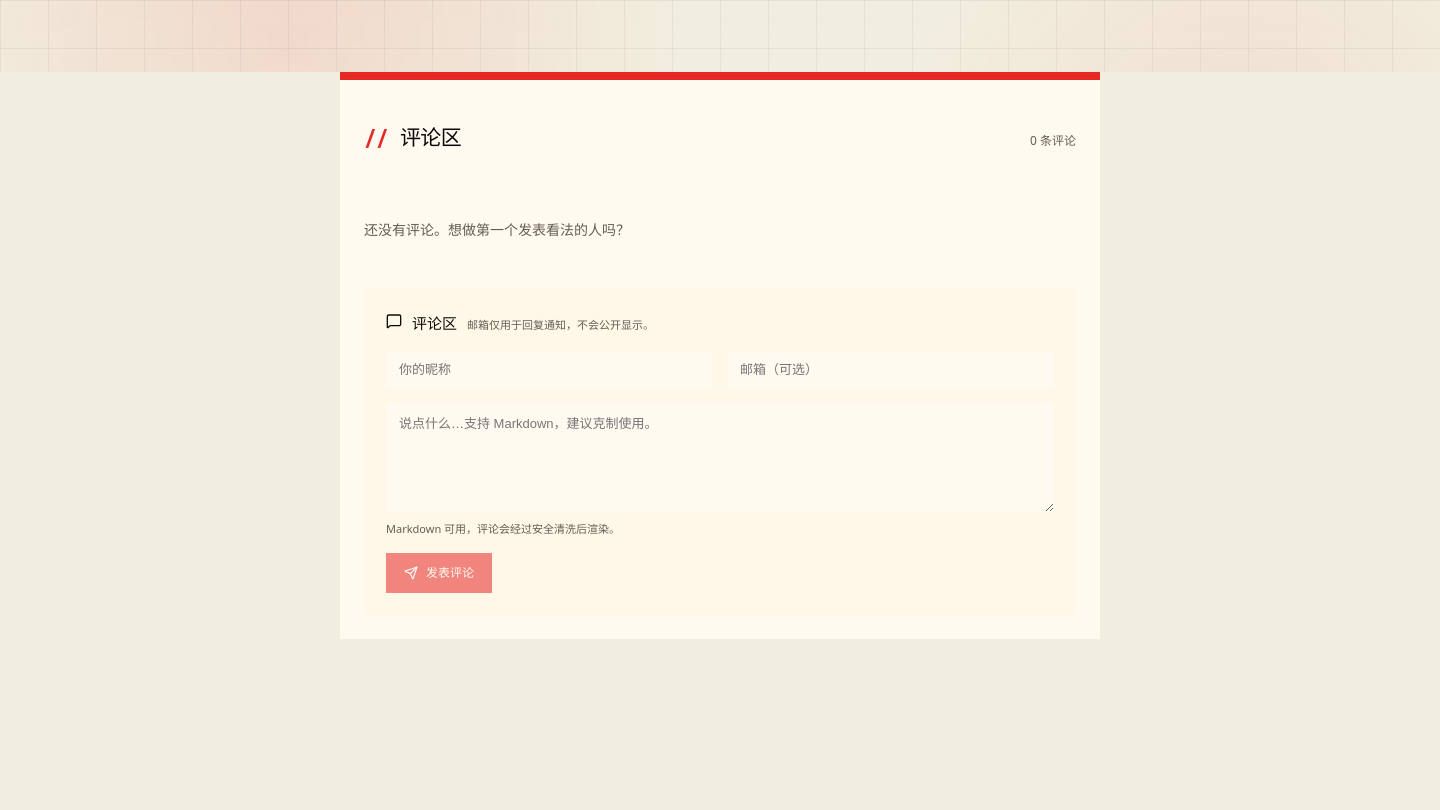
Test case: PostComments 评论区 › 提交失败时展示错误提示且不刷新列表
Type "bob" into the field with placeholder "你的昵称" at (550, 370), box [386,351,713,388]
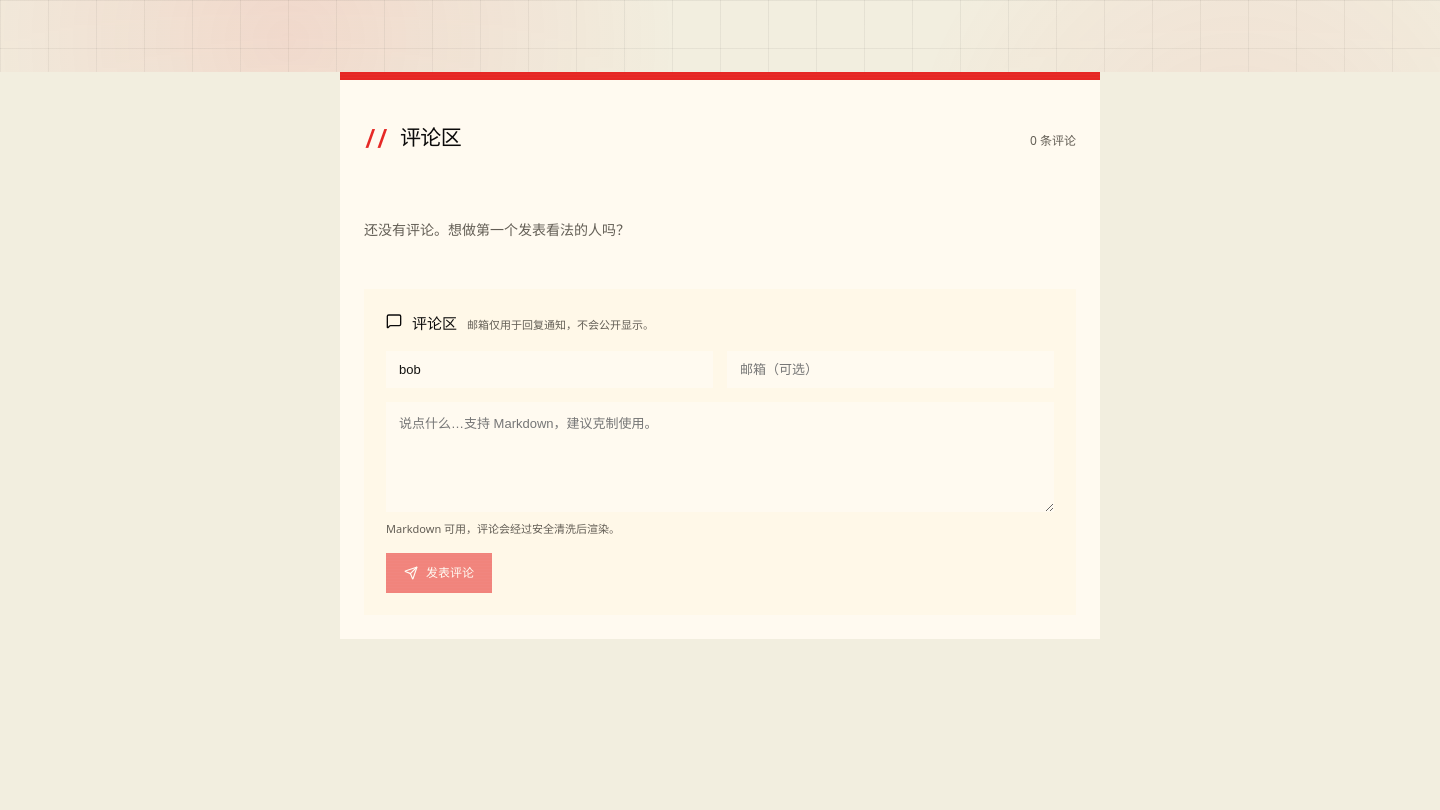
Type "oops" into the text box with placeholder "说点什么…支持 Markdown，建议克制使用。" at (720, 457), box [386,402,1054,512]
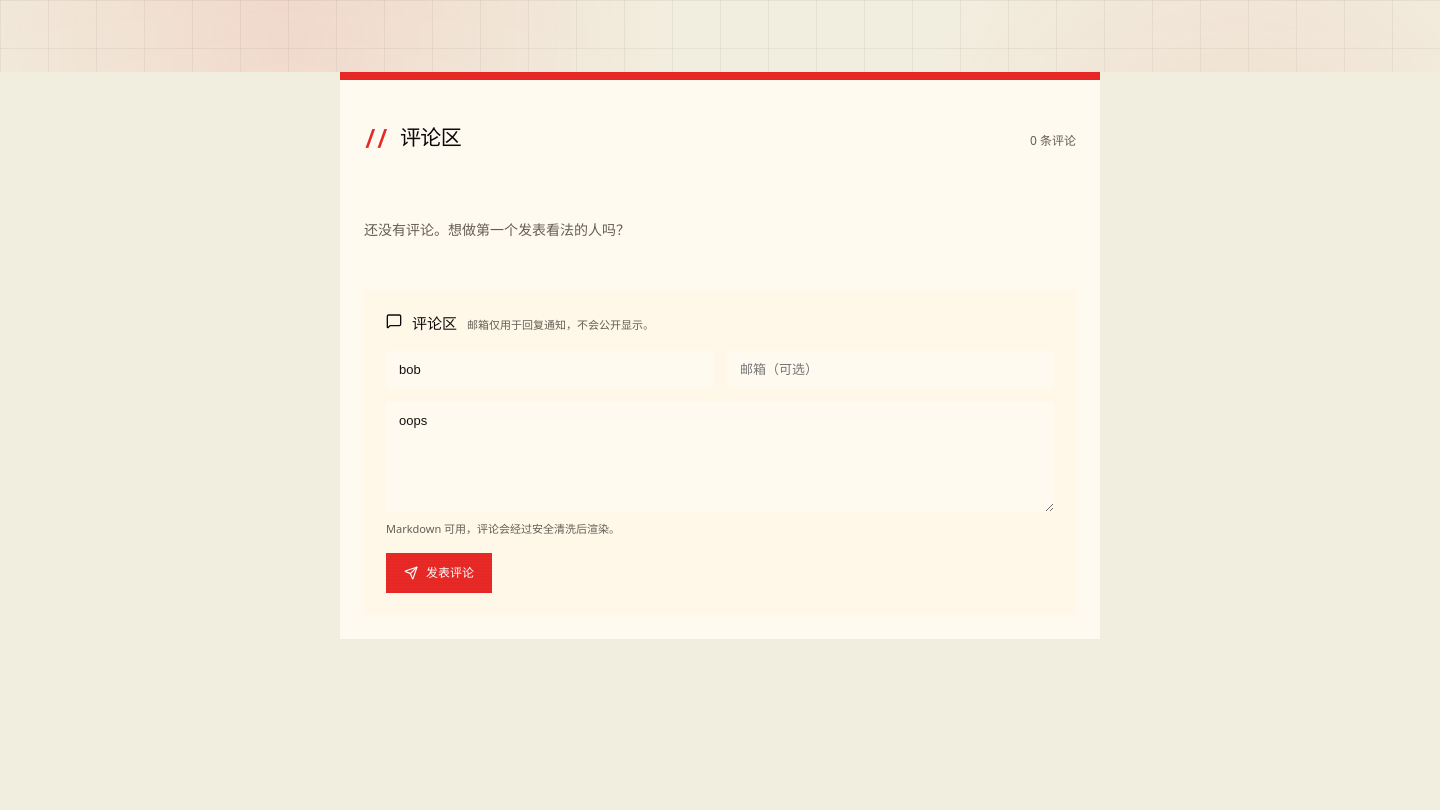
Submit the form, box [364,290,1076,615]
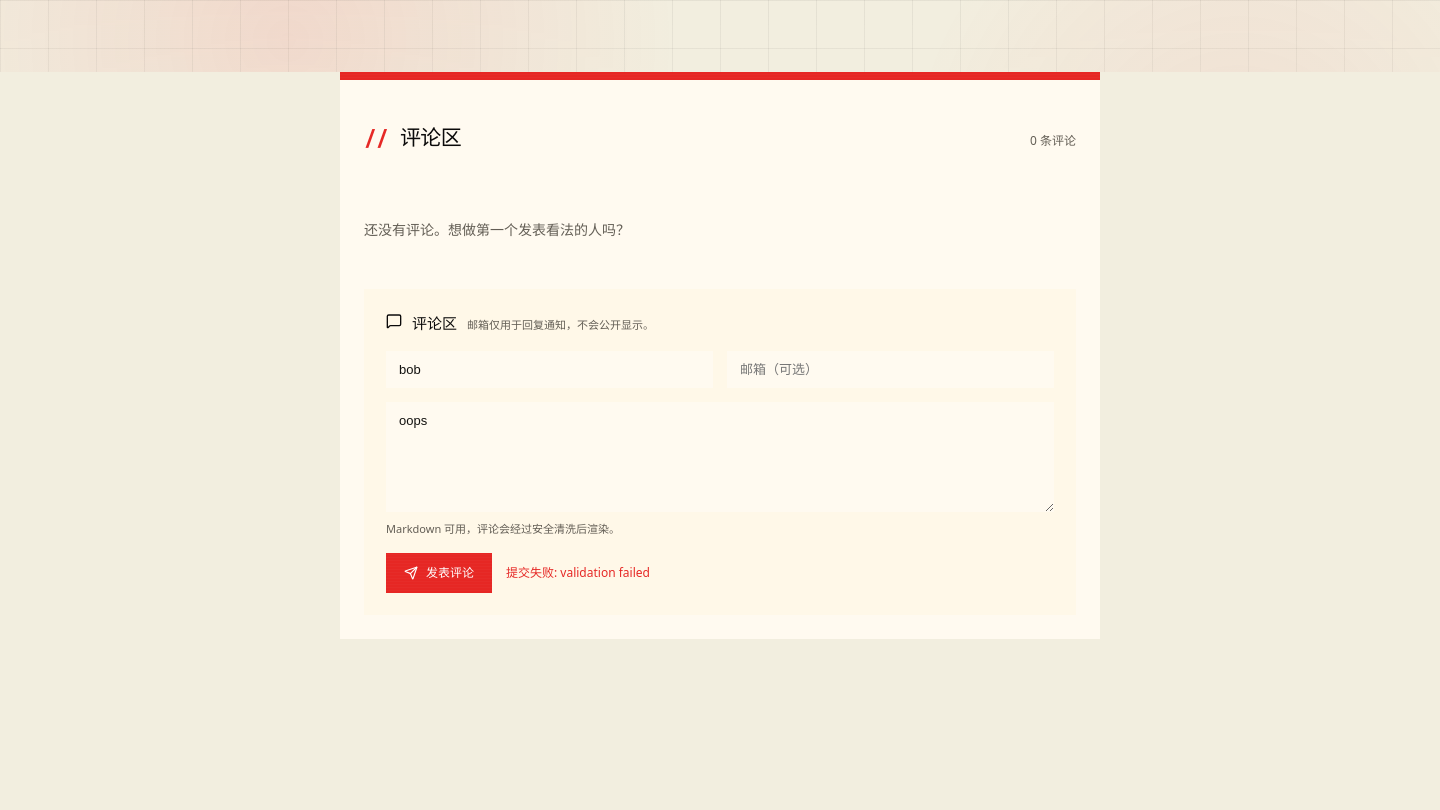
Check: the text with class "form-error" shows "提交失败", box [506,564,650,581]
